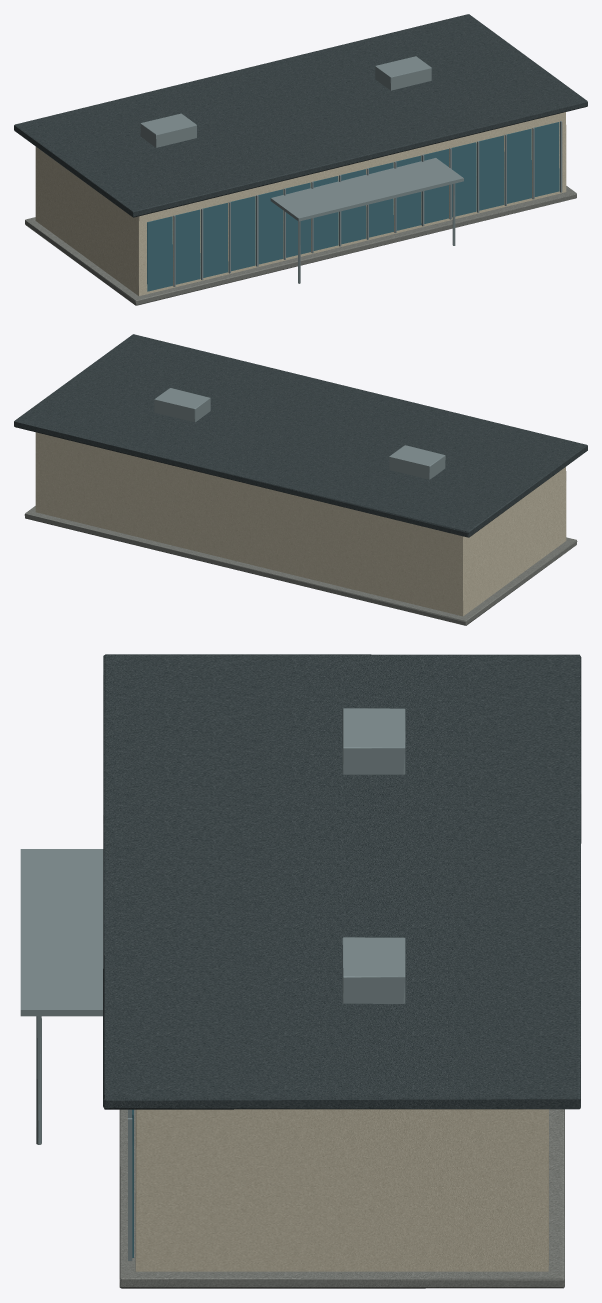
Rendered from RegionalTerminal_32x14_LOD1.glb.
3 views of the same model, one above another, from view 1: azimuth 30°, elevation 25°; view 2: azimuth 150°, elevation 25°; view 3: azimuth 270°, elevation 25° (orthographic). The views are drawn at different scales.
Visible parts, largest first — view 1: RegionalTerminal_32x14_export; view 2: RegionalTerminal_32x14_export; view 3: RegionalTerminal_32x14_export.
Boxes of the visible parts, x1=… form: RegionalTerminal_32x14_export: x1=14, y1=14, x2=587, y2=305; RegionalTerminal_32x14_export: x1=14, y1=334, x2=587, y2=625; RegionalTerminal_32x14_export: x1=20, y1=654, x2=581, y2=1288.
Bounding box in the file's own units: 32.98 × 7.78 × 17.58.
5 materials, 3 textured.
